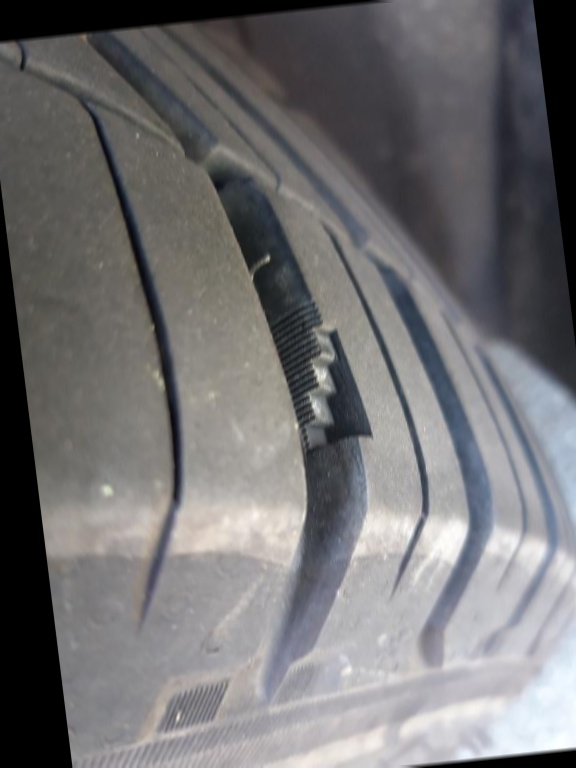temoin:90: (261, 290, 382, 465)
